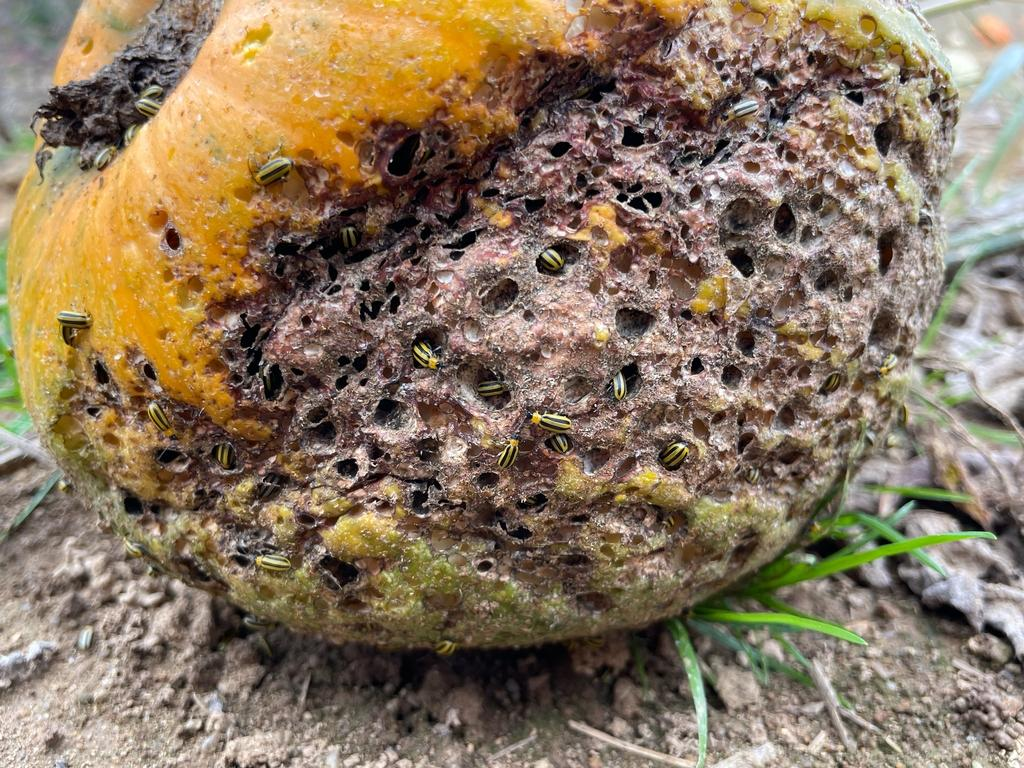potato_beetle: (518, 397, 583, 442), (405, 327, 458, 381), (481, 431, 530, 478)
